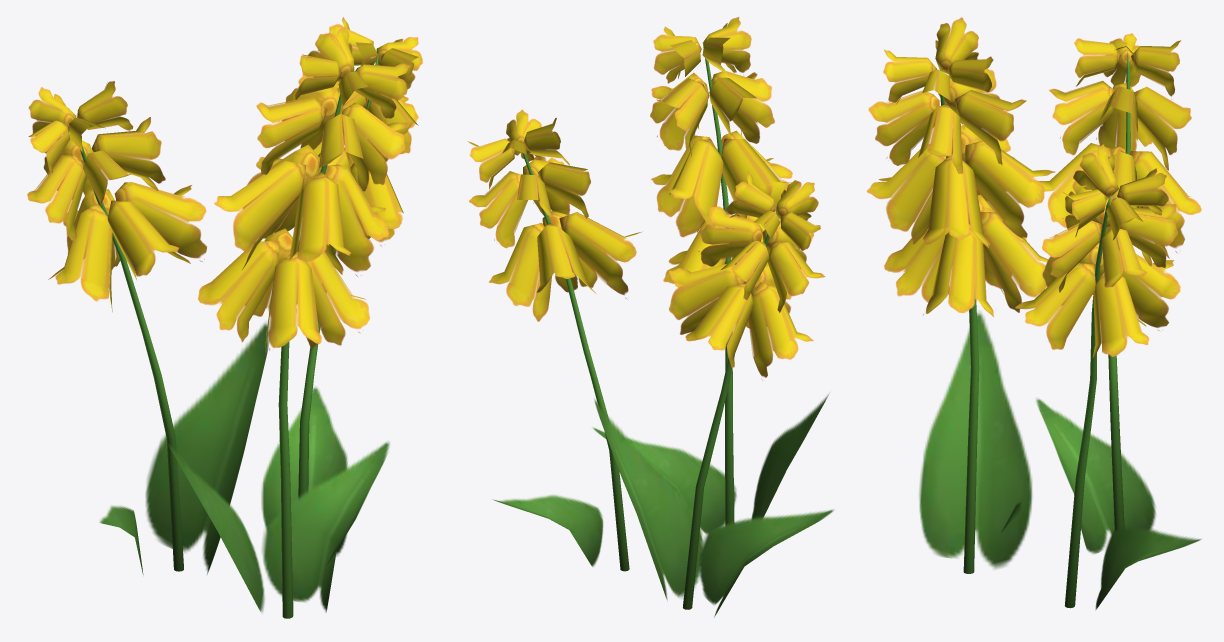
File: q-flower-group-lqtljn6wg2.glb
The picture shows the model from 3 angles, left to right: view 1: azimuth 30°, elevation 25°; view 2: azimuth 150°, elevation 25°; view 3: azimuth 270°, elevation 25°; orthographic projection. The views are drawn at different scales.
Parts seen in each view (by area): view 1: Flower_4_Group; view 2: Flower_4_Group; view 3: Flower_4_Group.
Part boxes in pixels (<box>): Flower_4_Group: <box>27,17,422,618</box>; Flower_4_Group: <box>467,17,833,617</box>; Flower_4_Group: <box>866,17,1201,609</box>.
Bounding box in the file's own units: 1.78 × 2.49 × 1.37.
Materials: 2 (2 with a texture image).
